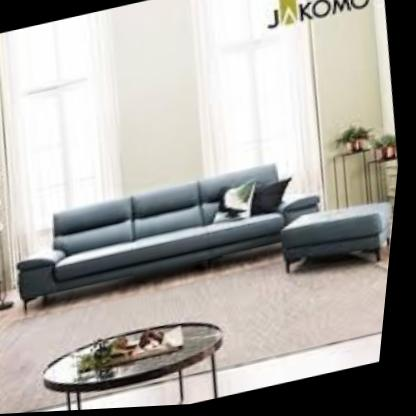Carpet: (0, 261, 394, 415)
Sofa: (0, 136, 361, 335)
